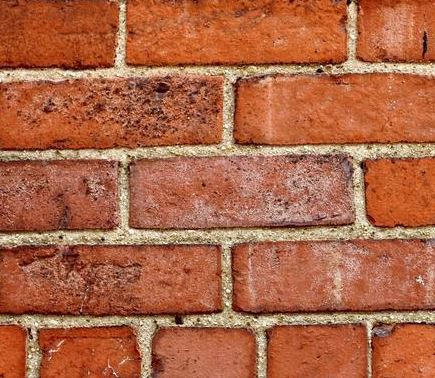brick: (1, 72, 228, 153), (1, 241, 225, 317), (127, 156, 358, 229), (123, 1, 351, 68), (229, 240, 435, 311), (234, 74, 435, 145), (1, 158, 123, 232), (1, 1, 119, 69), (149, 323, 261, 378), (34, 324, 143, 378), (264, 324, 369, 378), (360, 155, 435, 228), (355, 1, 434, 62), (370, 320, 435, 377)
